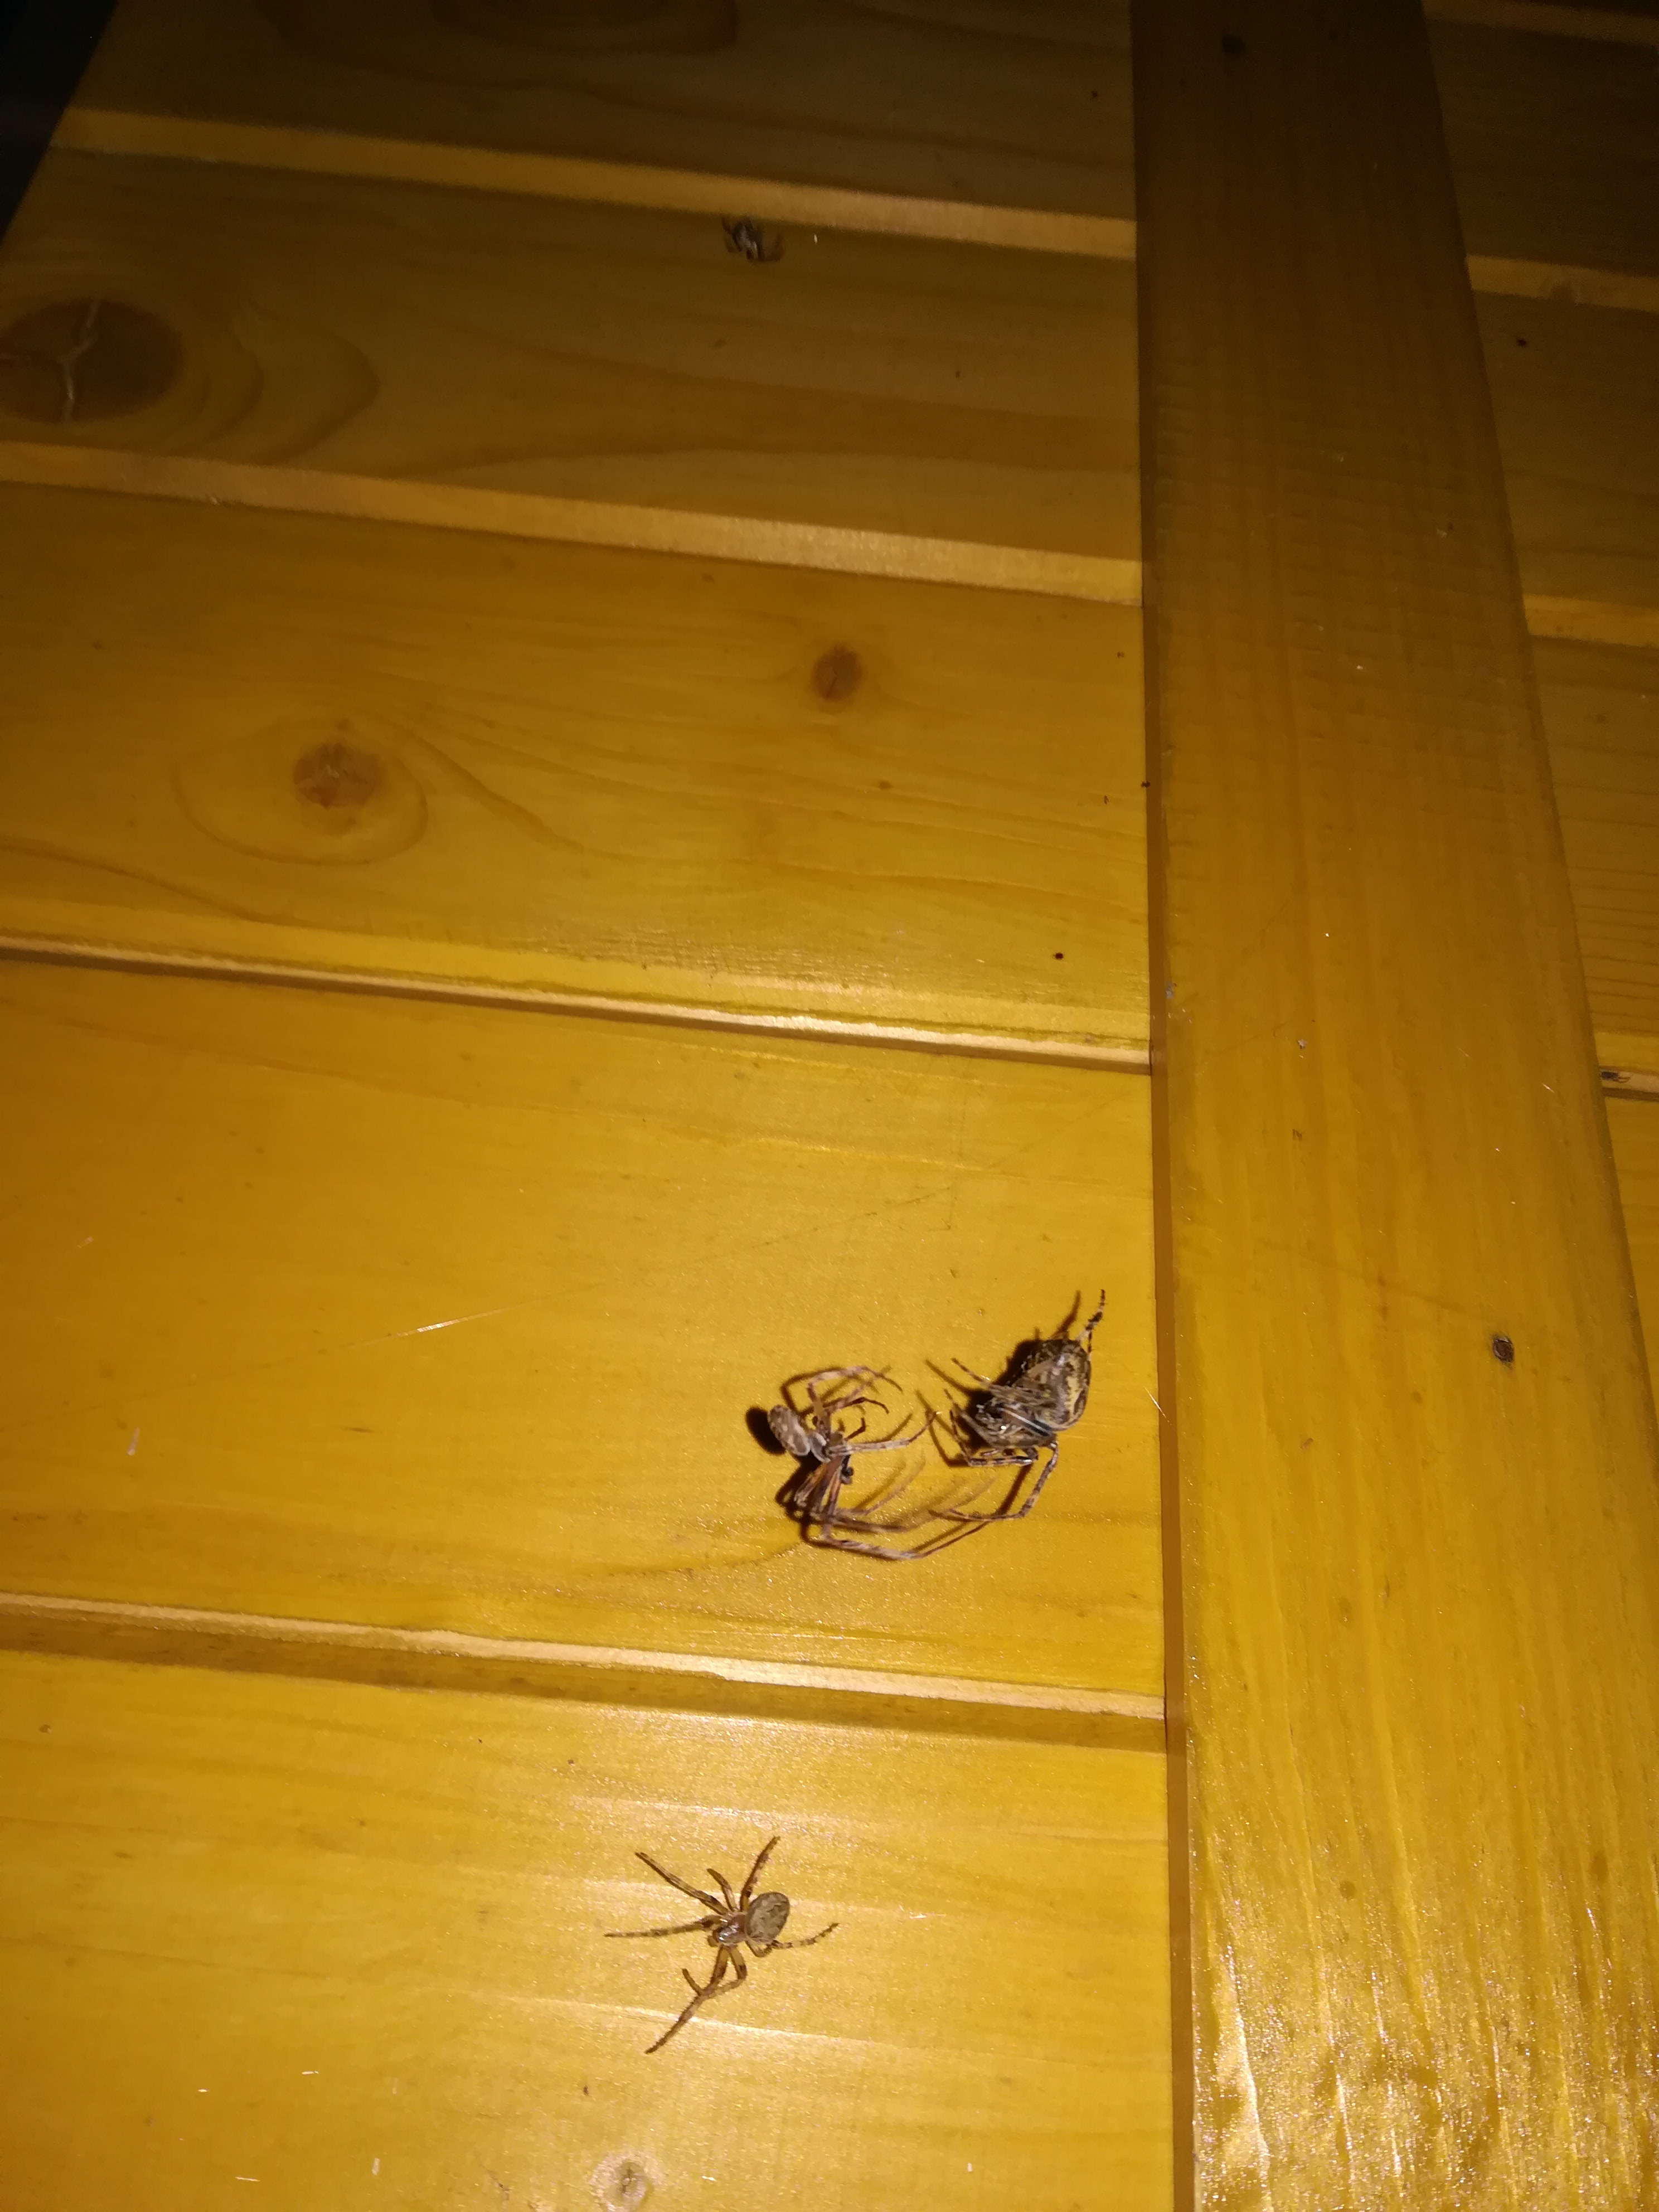spider: (591, 1791, 890, 2080), (699, 1315, 951, 1594), (920, 1266, 1148, 1552)
